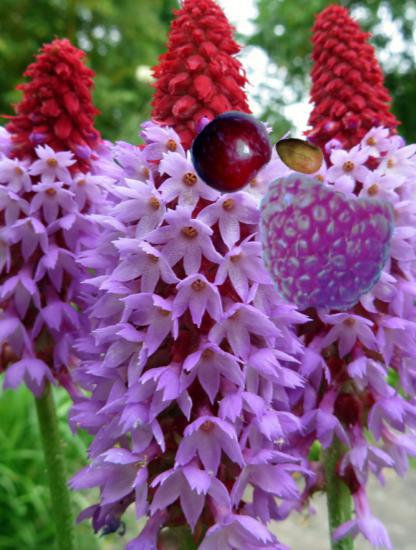Papaya: (273, 128, 326, 181)
Plum: (189, 109, 275, 195)
Raspberry: (252, 173, 393, 314)
